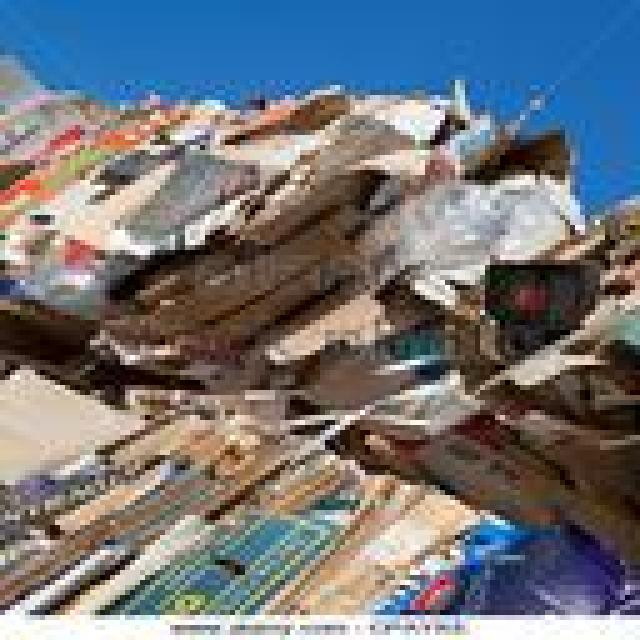cardboard: (150, 125, 560, 330), (0, 405, 295, 610), (330, 280, 635, 470), (395, 335, 635, 575), (0, 90, 245, 280), (95, 450, 385, 610), (370, 155, 585, 310), (170, 185, 365, 355), (270, 475, 485, 605), (370, 505, 635, 610), (250, 90, 475, 210), (0, 355, 145, 525), (175, 215, 355, 330), (285, 310, 450, 405), (0, 280, 120, 405), (265, 275, 435, 355), (0, 40, 90, 180), (240, 80, 490, 125), (110, 255, 185, 360), (490, 265, 600, 325), (445, 275, 500, 375), (595, 190, 635, 285), (535, 220, 595, 260)
